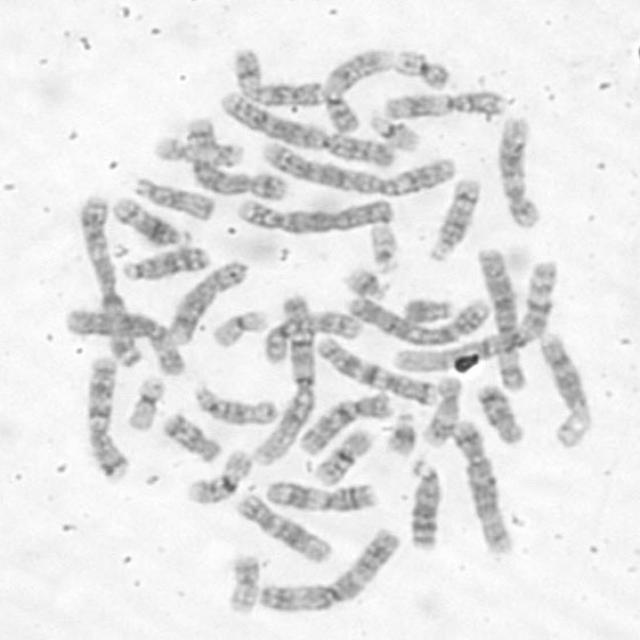A1: (389, 259, 560, 377), (250, 293, 316, 466)
A2: (212, 89, 397, 166), (262, 140, 456, 199)
A3: (260, 526, 402, 614), (77, 193, 145, 367)
B4: (348, 295, 492, 348), (235, 197, 396, 237)
B5: (449, 417, 517, 556), (184, 116, 288, 202)
C10: (299, 392, 392, 455), (260, 311, 361, 365)
C11: (264, 482, 378, 515), (382, 91, 507, 120)
C12: (236, 494, 334, 564), (498, 114, 542, 230)
C6: (63, 306, 187, 376), (472, 247, 530, 391)
C7: (314, 334, 439, 409), (86, 357, 130, 484)
C8: (165, 260, 250, 347), (540, 331, 593, 450)
C9: (322, 48, 394, 135)
D13: (408, 458, 444, 552), (120, 247, 209, 284)
D14: (429, 177, 481, 262), (112, 196, 193, 248)
D15: (135, 176, 220, 224), (192, 382, 277, 429)
E16: (187, 450, 254, 507), (313, 427, 373, 487)
E17: (150, 134, 248, 170), (424, 376, 464, 449)
E18: (476, 384, 528, 445), (165, 412, 222, 464)
F19: (209, 308, 269, 350), (125, 375, 167, 432)
F20: (391, 44, 454, 90), (227, 552, 259, 613)
G21: (383, 410, 422, 458), (345, 266, 390, 302)
G22: (368, 112, 423, 152), (368, 223, 399, 274)
X: (230, 45, 324, 108)
Y: (400, 292, 453, 324)
